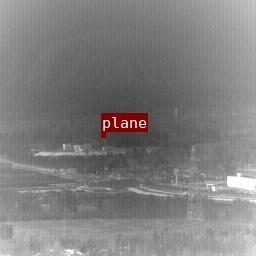plane: (101, 132, 105, 136)
